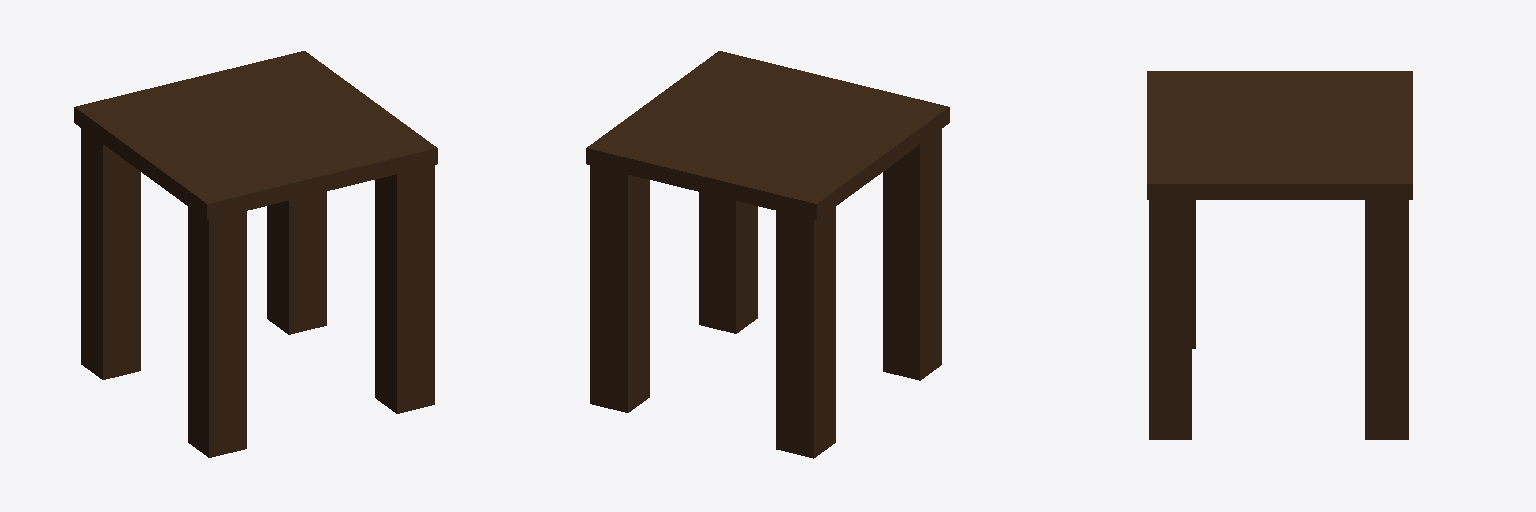
Rendered from EndTable.obj.
3 renders of one model, left to right at view 1: azimuth 30°, elevation 25°; view 2: azimuth 150°, elevation 25°; view 3: azimuth 270°, elevation 25°, orthographic.
Parts seen in each view (by area): view 1: Cube_Cube.003; view 2: Cube_Cube.003; view 3: Cube_Cube.003.
Part boxes in pixels (left/top/right/bottom): Cube_Cube.003: left=74, top=51, right=437, bottom=457; Cube_Cube.003: left=586, top=51, right=949, bottom=458; Cube_Cube.003: left=1147, top=71, right=1412, bottom=439.
Bounding box in the file's own units: 2 × 2.14 × 2.